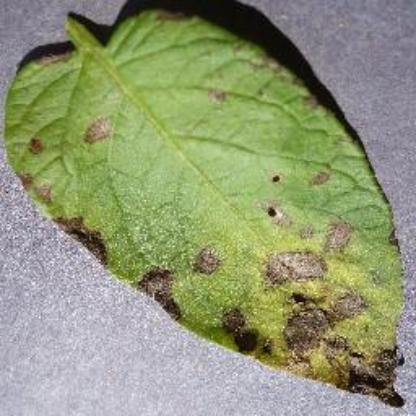Early-Blight: (8, 7, 408, 409)
